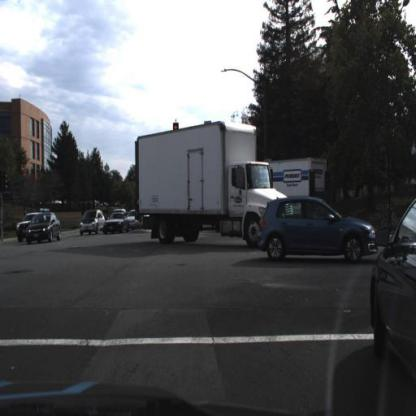biker: (381, 198, 399, 234)
car: (369, 190, 416, 412), (258, 194, 379, 264), (371, 189, 416, 373), (25, 210, 64, 246), (25, 212, 64, 247), (80, 210, 107, 237), (103, 209, 131, 235), (104, 210, 130, 238), (127, 210, 142, 229)
trafficLight-Red: (204, 120, 214, 130)
trafficLight-RedLeft: (173, 121, 181, 135)
truck: (135, 119, 296, 252)
